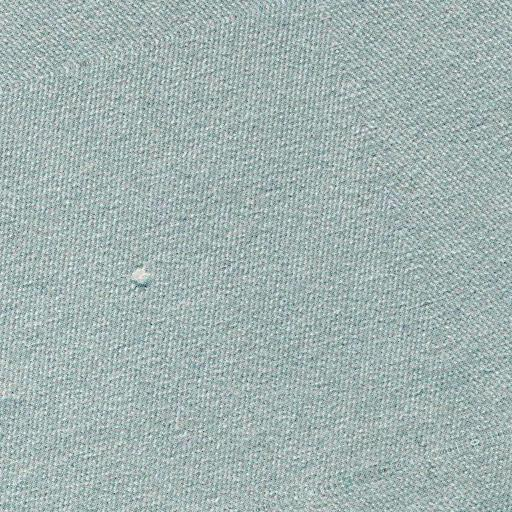knot: (122, 259, 162, 296)
